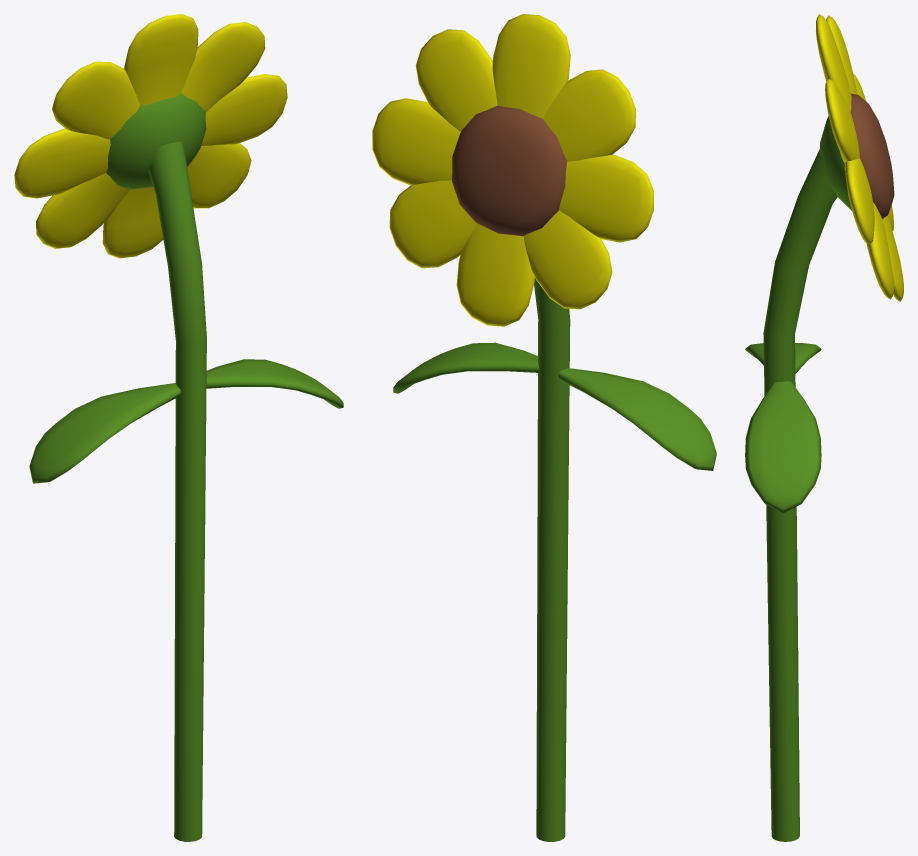
The model's file is prop33.fbx.
3 renders of one model, left to right at view 1: azimuth 30°, elevation 25°; view 2: azimuth 150°, elevation 25°; view 3: azimuth 270°, elevation 25°, orthographic. The views are drawn at different scales.
Parts seen in each view (by area): view 1: Cylinder.030; view 2: Cylinder.030; view 3: Cylinder.030.
Boxes of the visible parts, x1=… form: Cylinder.030: x1=14, y1=14, x2=343, y2=841; Cylinder.030: x1=372, y1=14, x2=716, y2=841; Cylinder.030: x1=745, y1=14, x2=903, y2=841.
Size of the model in its own units: 0.6542 by 0.2905 by 1.64.
